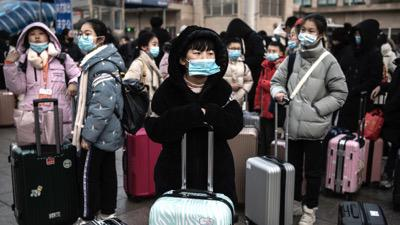mask_weared_incorrect: (29, 30, 47, 51), (286, 30, 299, 50)
with_mask: (184, 49, 216, 77), (298, 25, 319, 47), (77, 29, 97, 52), (147, 40, 160, 60), (228, 46, 242, 61), (266, 48, 278, 62)
